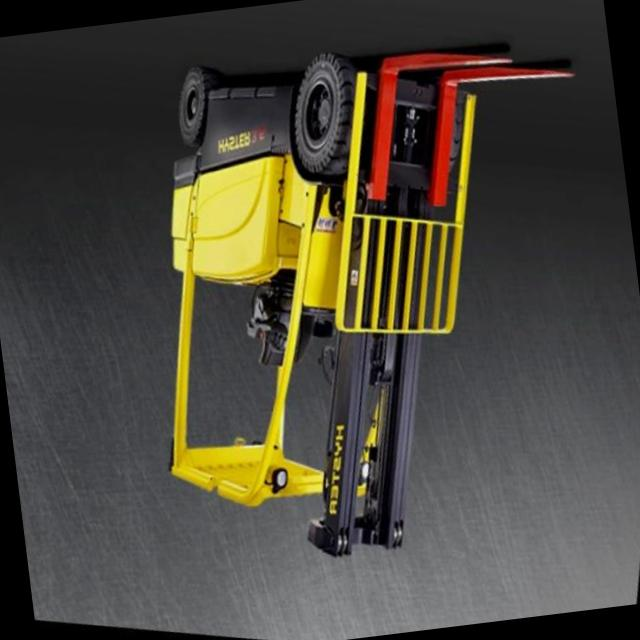forklift: (57, 0, 560, 615)
